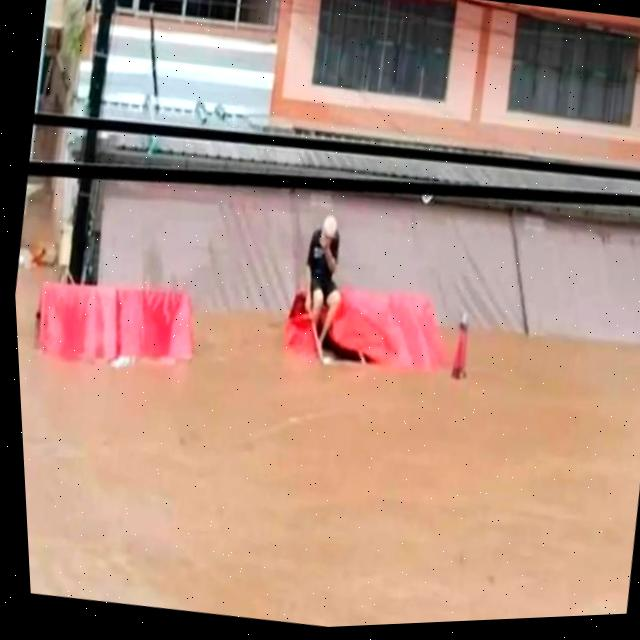civilian: (285, 206, 366, 349)
